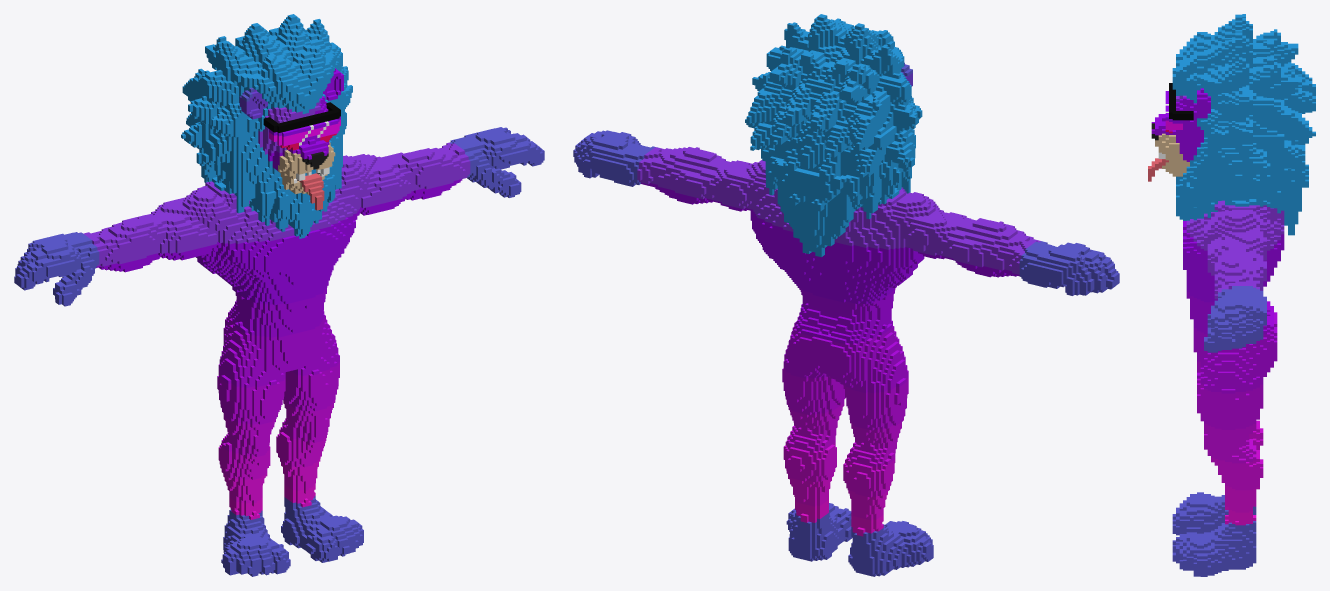
The model's file is 206-BXhpU8Q_.glb.
The picture shows the model from 3 angles, left to right: view 1: azimuth 30°, elevation 25°; view 2: azimuth 150°, elevation 25°; view 3: azimuth 270°, elevation 25°; orthographic projection. The views are drawn at different scales.
Visible parts, largest first — view 1: tongue_out; view 2: tongue_out; view 3: tongue_out.
Boxes of the visible parts, x1,y1,x2,y2 form: tongue_out: (14, 14, 544, 576); tongue_out: (573, 14, 1119, 576); tongue_out: (1148, 14, 1315, 576).
Size of the model in its own units: 17.2 by 16.5 by 4.8.
Materials: 4 (4 with a texture image).
